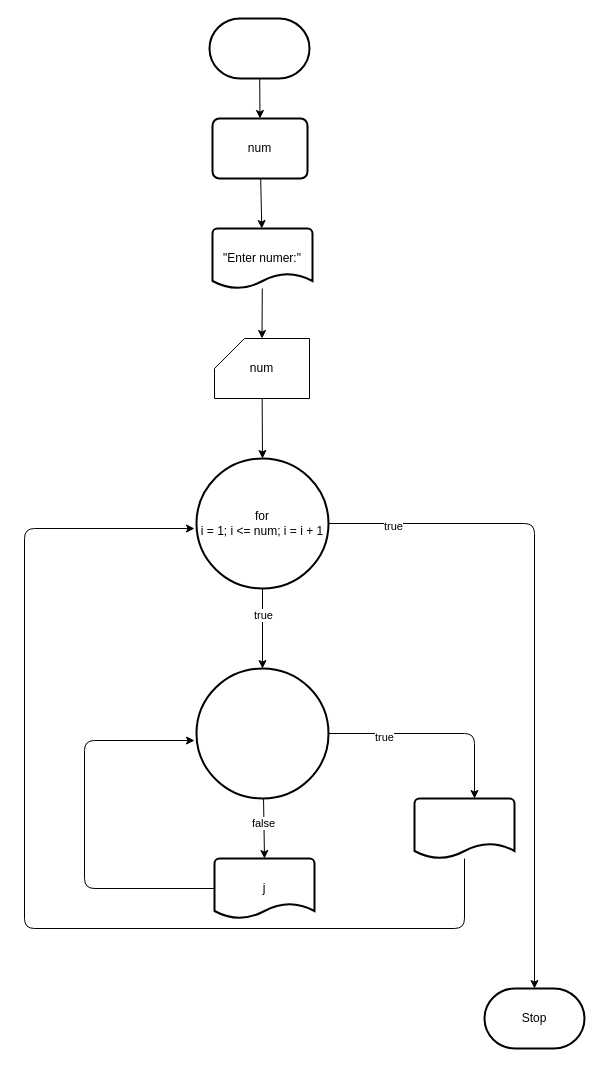
Image size: 603x1066. Some labels were removed from this diagram. Here are the shapes that lost their labels. From the top down, the centre of each, then its label:
point (259, 48): Start
point (262, 733): for j = num; j >= 1; j = j - 1
point (464, 828): "\n"
